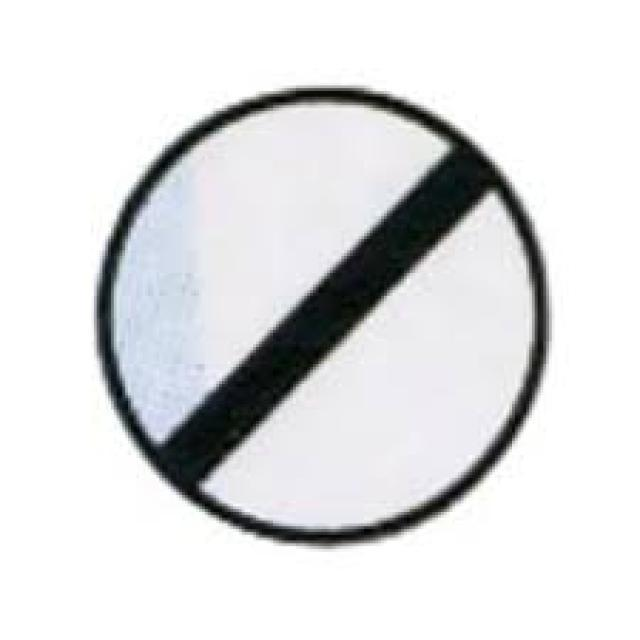restriction ends: (91, 84, 554, 547)
